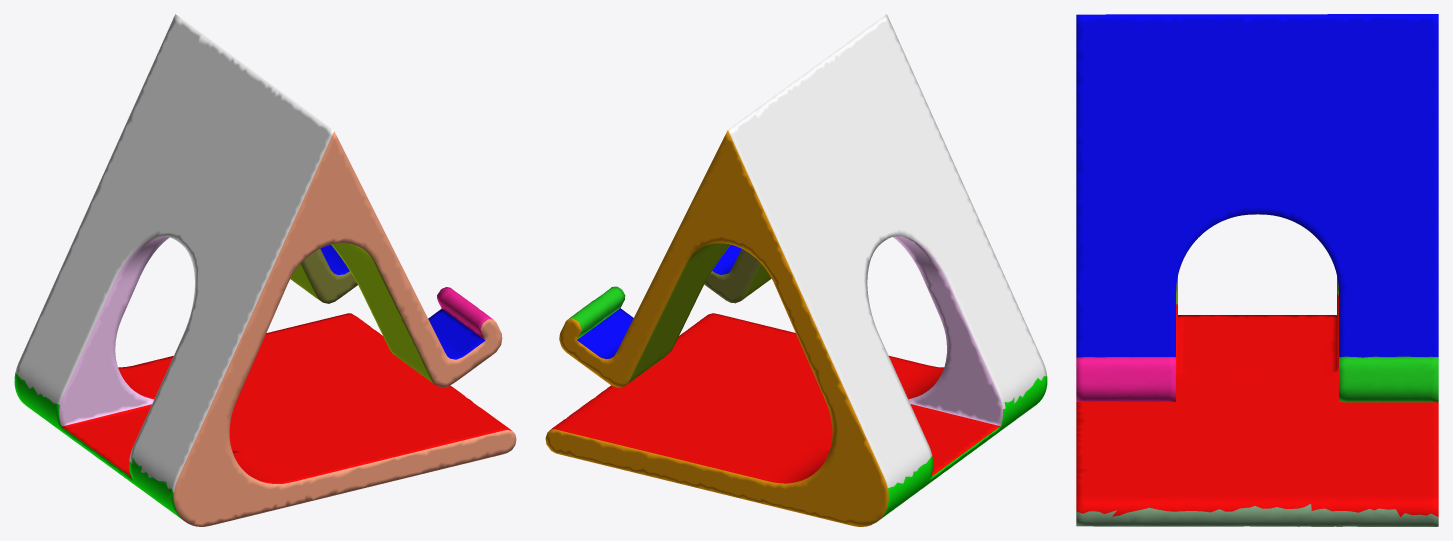
The model's file is model_26_segmented_new.obj.
The picture shows the model from 3 angles, left to right: view 1: azimuth 30°, elevation 25°; view 2: azimuth 150°, elevation 25°; view 3: azimuth 270°, elevation 25°; orthographic projection. The views are drawn at different scales.
Bounding box in the file's own units: 83.56 × 84.99 × 67.
